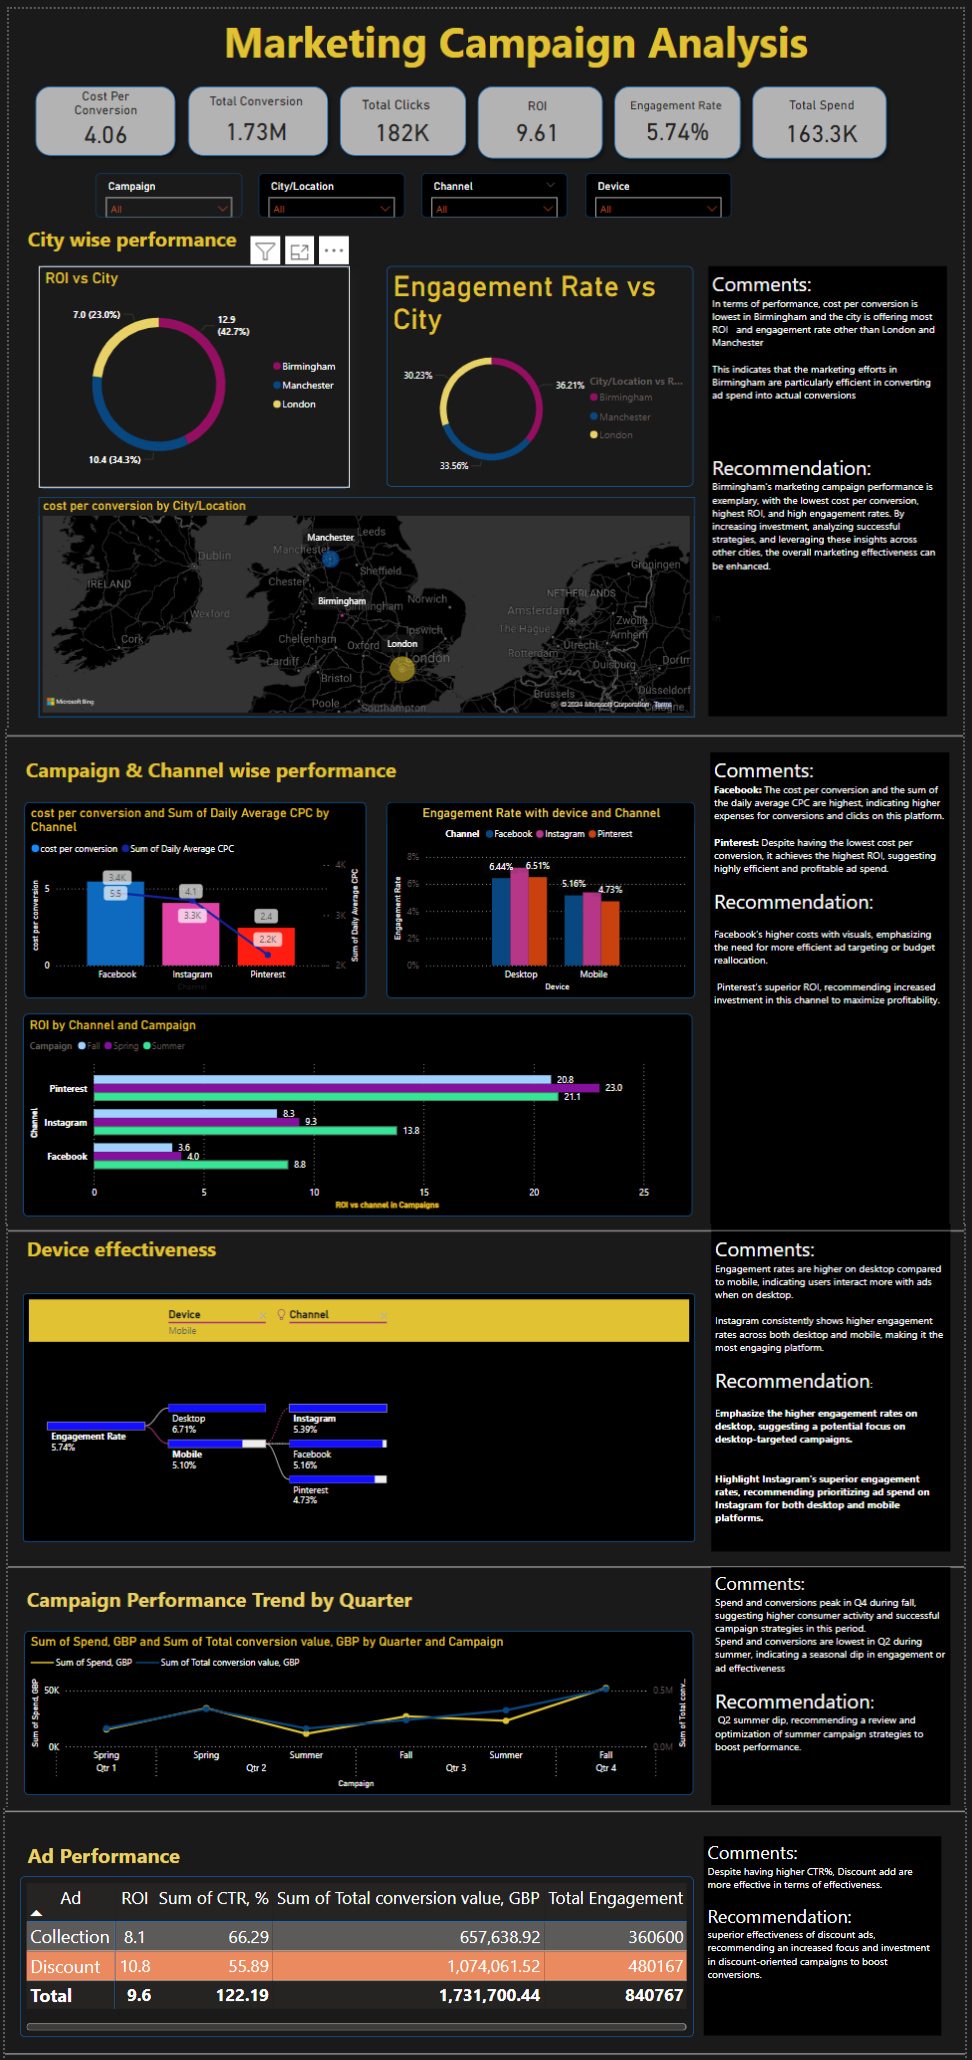

What the dashboard file says about the page in this screenshot:
{"tool":"powerbi","page":{"name":"Page 1","canvas":[1280,2781],"ordinal":0},"visuals":[{"type":"shape","box":[989.1,94.5,198.2,114.5],"z":0},{"type":"shape","box":[803.6,94.5,187.3,114.5],"z":1000},{"type":"shape","box":[230.9,94.5,205.5,110.9],"z":2000},{"type":"card","title":"Total Conversion","fields":{"Values":["Sum(data.Total conversion value, GBP)"]},"box":[250.9,112.7,160,78.2],"z":3000},{"type":"clusteredBarChart","fields":{"Category":["data.Channel"],"Y":["data.ROI"],"Series":["data.Campaign"]},"box":[21.8,1343.6,896.4,270.9],"z":4000},{"type":"lineStackedColumnComboChart","fields":{"Y":["data.cost per conversion"],"Y2":["Sum(data.Daily Average CPC)"],"Category":["data.Channel"]},"box":[22.5,1060,457.5,262.5],"z":5000},{"type":"textbox","box":[0,0,1360,86],"z":6000},{"type":"card","title":"Engagement Rate","fields":{"Values":["data.Engagement Rate"]},"box":[829.1,120,136.4,67.3],"z":7000},{"type":"lineChart","fields":{"Category":["data.Date.Variation.Date Hierarchy.Quarter","data.Campaign"],"Y2":["Sum(data.Total conversion value, GBP)"],"Y":["Sum(data.Spend, GBP)"]},"box":[21.8,2167.3,896.4,220],"z":8000},{"type":"decompositionTreeVisual","fields":{"ExplainBy":["data.Device","data.Channel"],"Analyze":["data.Engagement Rate"]},"box":[20,1715,900,332.5],"z":9000},{"type":"donutChart","title":"Engagement Rate vs City","fields":{"Category":["data.City/Location"],"Y":["data.Engagement Rate"]},"box":[506.9,344.4,411.4,295.7],"z":10000},{"type":"donutChart","title":"ROI vs City","fields":{"Category":["data.City/Location"],"Y":["data.ROI"]},"box":[40.7,344.4,416.7,298.1],"z":11000},{"type":"shape","box":[27.3,94.5,205.5,110.9],"z":12000},{"type":"card","title":"Cost Per Conversion","fields":{"Values":["data.cost per conversion"]},"box":[60,107.3,140,81.8],"z":13000},{"type":"clusteredColumnChart","title":"Engagement Rate with device and Channel","fields":{"Category":["data.Device"],"Series":["data.Channel"],"Y":["data.Engagement Rate"]},"box":[507.5,1060,412.5,262.5],"z":14000},{"type":"card","title":"Total Spend","fields":{"Values":["Sum(data.Spend, GBP)"]},"box":[1027.3,118.2,127.3,74.5],"z":15000},{"type":"pivotTable","fields":{"Rows":["data.Ad"],"Values":["data.ROI","Sum(data.CTR, %)","Sum(data.Total conversion value, GBP)","data.Total Engagement"]},"box":[20,2509.1,898.2,214.5],"z":16000},{"type":"shape","box":[434.5,94.5,187.3,110.9],"z":17000},{"type":"shape","box":[620,94.5,185.5,114.5],"z":18000},{"type":"card","title":"Total Clicks","fields":{"Values":["Sum(data.Clicks)"]},"box":[469.1,118.2,118.2,70.9],"z":19000},{"type":"card","title":"ROI","fields":{"Values":["data.ROI"]},"box":[641.8,120,134.5,67.3],"z":20000},{"type":"textbox","box":[20,285.5,354.5,47.3],"z":21000},{"type":"shape","box":[0,950,1360,42.5],"z":22000},{"type":"textbox","box":[20,992.5,515,50],"z":23000},{"type":"map","fields":{"Category":["data.City/Location"],"Size":["data.cost per conversion"]},"box":[40,655,880,295],"z":24000},{"type":"textbox","box":[938.2,345.5,320,603.6],"z":25000},{"type":"textbox","box":[941.8,992.7,320,638.2],"z":26000},{"type":"shape","box":[0,1615,1360,32.5],"z":27000},{"type":"shape","box":[0,2060,1360,42.5],"z":28000},{"type":"textbox","box":[941.8,1630.9,320,429.1],"z":29000},{"type":"textbox","box":[941.8,2081.8,320,318.2],"z":30000},{"type":"textbox","box":[932,2455.8,316.9,265.6],"z":31000},{"type":"textbox","box":[20,1630.9,347.3,67.3],"z":32000},{"type":"textbox","box":[20,2101.8,547.3,65.5],"z":33000},{"type":"shape","box":[0,2400,1280,43.6],"z":34000},{"type":"textbox","box":[25.5,2456.4,223.6,50.9],"z":35000},{"type":"slicer","fields":{"Values":["data.Campaign"]},"box":[116.4,220.1,196.4,60],"z":36000},{"type":"slicer","fields":{"Values":["data.City/Location"]},"box":[335.4,220.1,196,60],"z":37000},{"type":"slicer","fields":{"Values":["data.Channel"]},"box":[554.1,220.1,196,60],"z":37001},{"type":"slicer","fields":{"Values":["data.Device"]},"box":[772.7,220.1,196,60],"z":37002},{"type":"shape","box":[0,2723.6,1280,43.6],"z":37003}]}

Visuals, with their boxes in screenshot pixels (x1, y1, x2, y2), scaled from the page's 1280x2781 canvas onto the 972x2060 screenshot:
shape: 751, 70, 902, 155
shape: 610, 70, 752, 155
shape: 175, 70, 331, 152
"Total Conversion" card: 191, 83, 312, 141
clusteredBarChart - data.Channel x data.ROI: 17, 995, 697, 1196
lineStackedColumnComboChart - data.cost per conversion x Sum(data.Daily Average CPC): 17, 785, 364, 980
textbox: 0, 0, 971, 64
"Engagement Rate" card: 630, 89, 733, 139
lineChart - data.Date.Variation.Date Hierarchy.Quarter x data.Campaign: 17, 1605, 697, 1768
decompositionTreeVisual - data.Device x data.Channel: 15, 1270, 699, 1517
"Engagement Rate vs City" donutChart: 385, 255, 697, 474
"ROI vs City" donutChart: 31, 255, 347, 476
shape: 21, 70, 177, 152
"Cost Per Conversion" card: 46, 79, 152, 140
"Engagement Rate with device and Channel" clusteredColumnChart: 385, 785, 699, 980
"Total Spend" card: 780, 88, 877, 143
pivotTable - data.Ad x data.ROI: 15, 1859, 697, 2017
shape: 330, 70, 472, 152
shape: 471, 70, 612, 155
"Total Clicks" card: 356, 88, 446, 140
"ROI" card: 487, 89, 590, 139
textbox: 15, 211, 284, 247
shape: 0, 704, 971, 735
textbox: 15, 735, 406, 772
map - data.City/Location x data.cost per conversion: 30, 485, 699, 704
textbox: 712, 256, 955, 703
textbox: 715, 735, 958, 1208
shape: 0, 1196, 971, 1220
shape: 0, 1526, 971, 1557
textbox: 715, 1208, 958, 1526
textbox: 715, 1542, 958, 1778
textbox: 708, 1819, 948, 2016
textbox: 15, 1208, 279, 1258
textbox: 15, 1557, 431, 1605
shape: 0, 1778, 971, 1810
textbox: 19, 1820, 189, 1857
slicer - data.Campaign: 88, 163, 238, 207
slicer - data.City/Location: 255, 163, 404, 207
slicer - data.Channel: 421, 163, 570, 207
slicer - data.Device: 587, 163, 736, 207
shape: 0, 2017, 971, 2050
